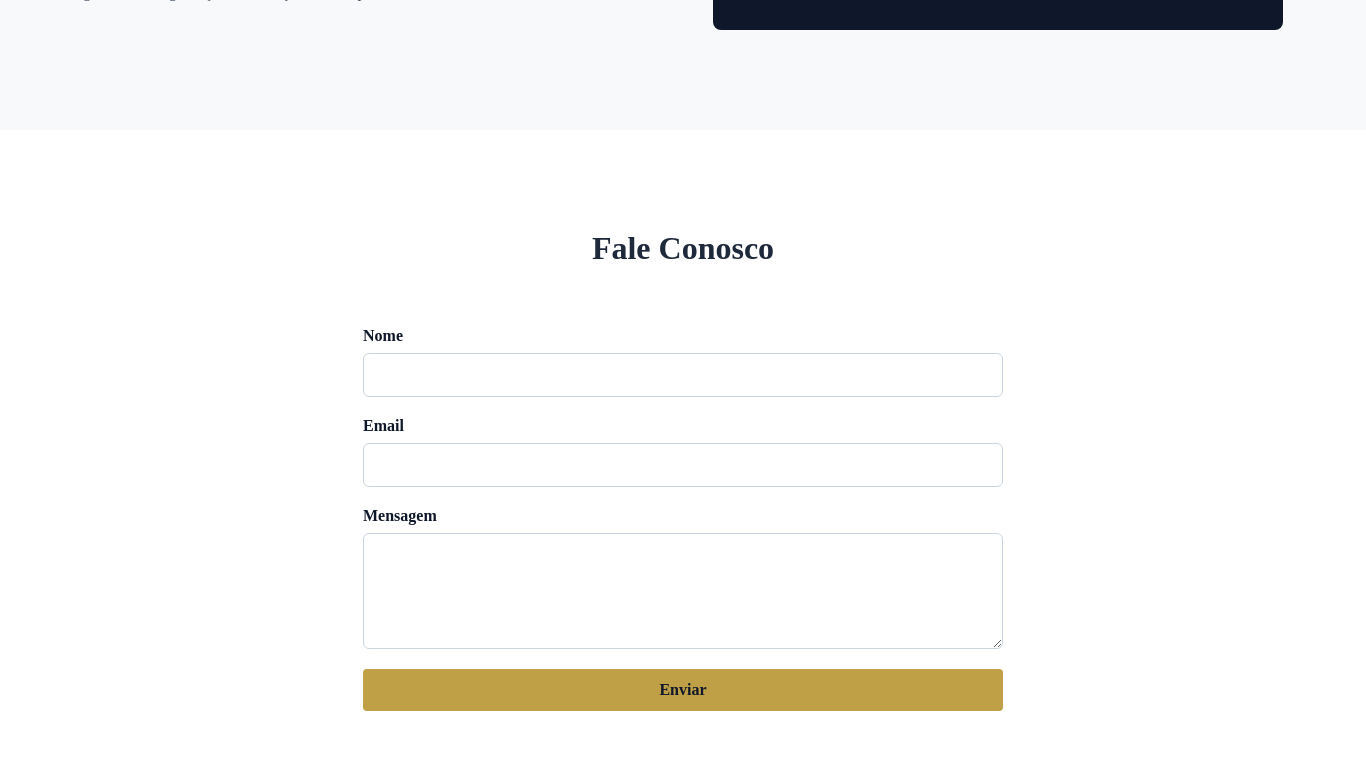
Test: App - integração da landing page › permite preencher, enviar e limpar o formulário de contato
The width and height of the screenshot is (1366, 759).
(page scrolled)
In the field labelled "Nome": point(683, 375) [363,353,1003,397], type "Carlos Lima"
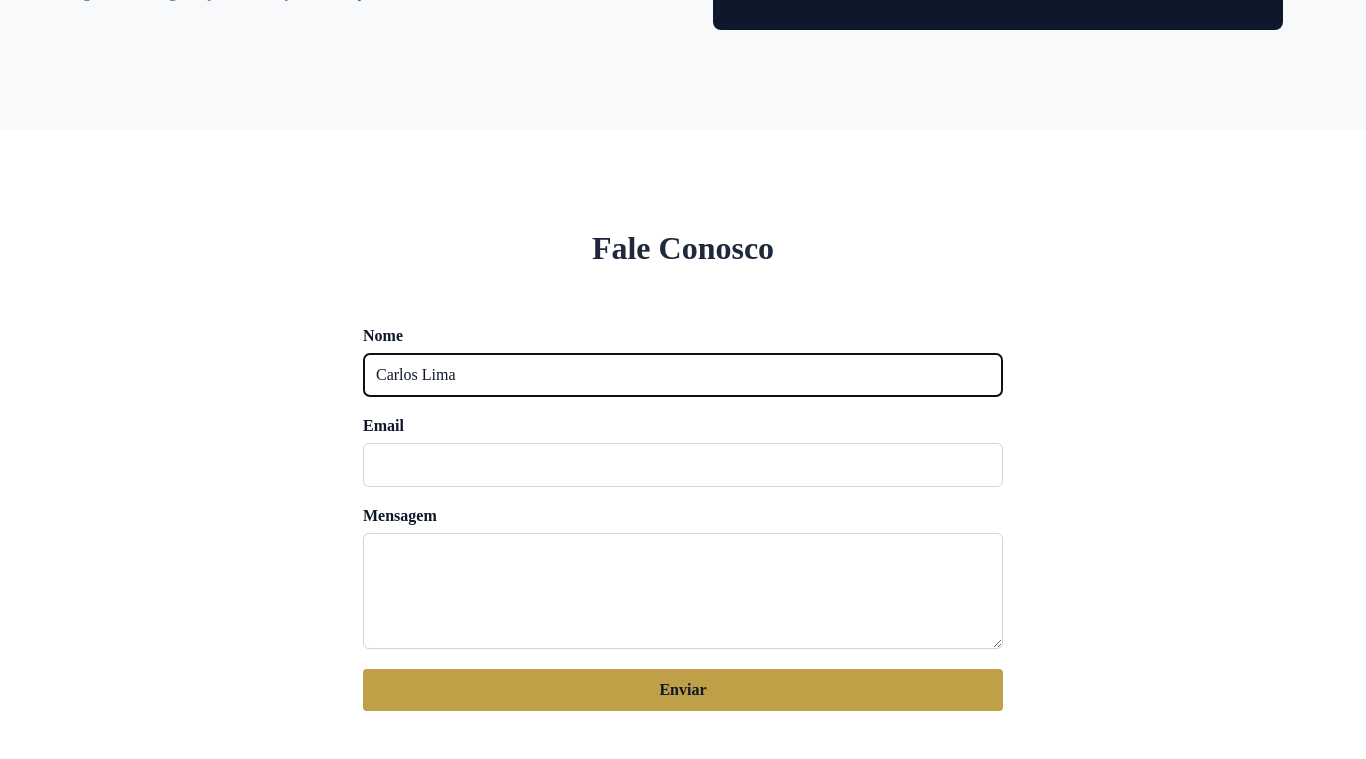
In the field labelled "Email": point(683, 465) [363,443,1003,487], type "carlos@email.com"
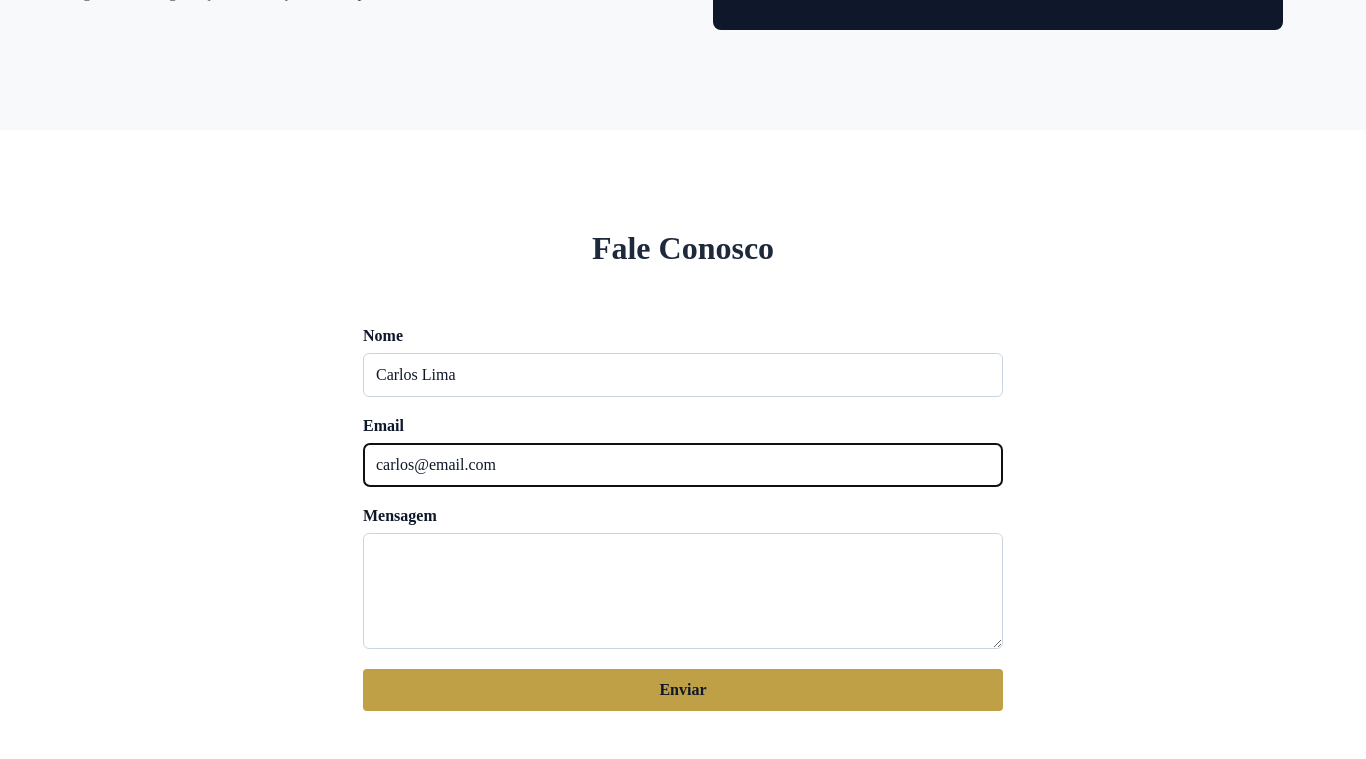
In the text box labelled "Mensagem": point(683, 591) [363,533,1003,649], type "Quero agendar uma consulta sobre contrato."
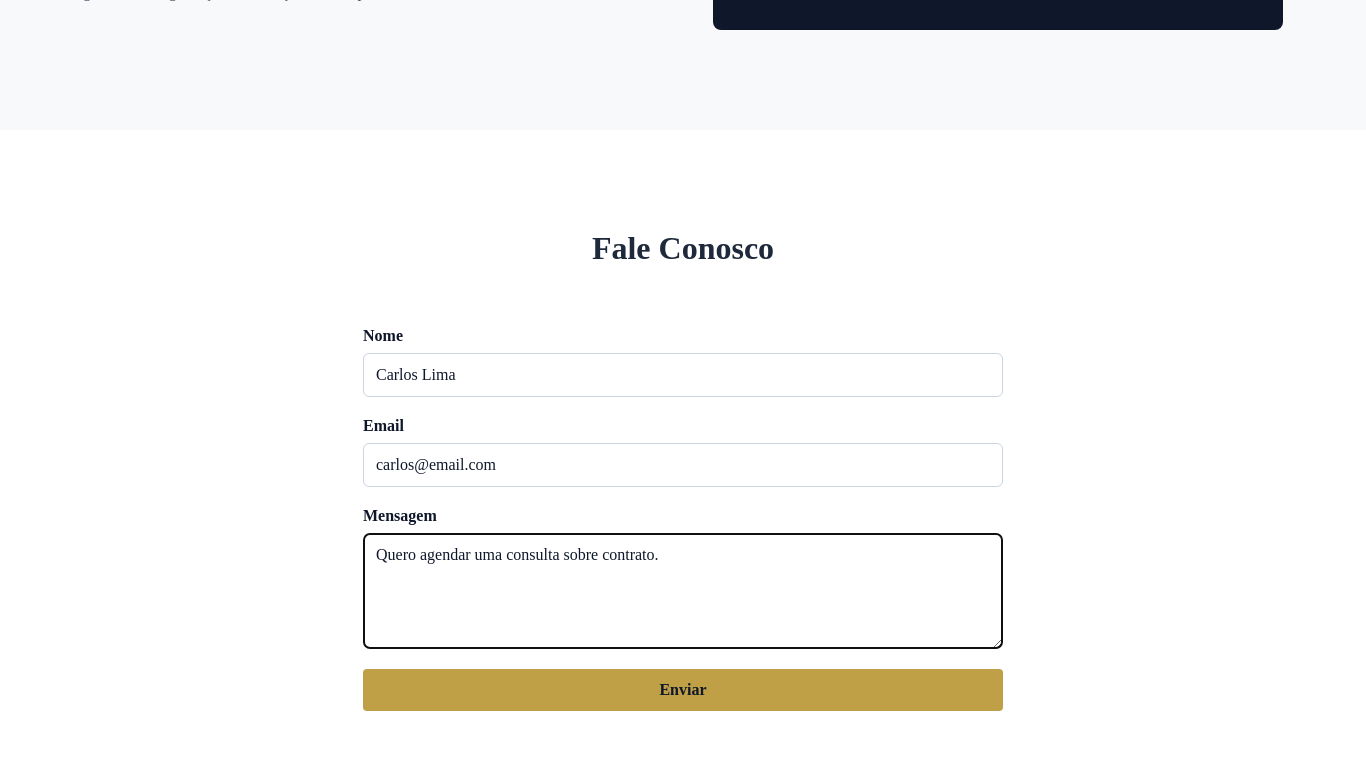
Click the button "Enviar": point(683, 690) [363,669,1003,711]
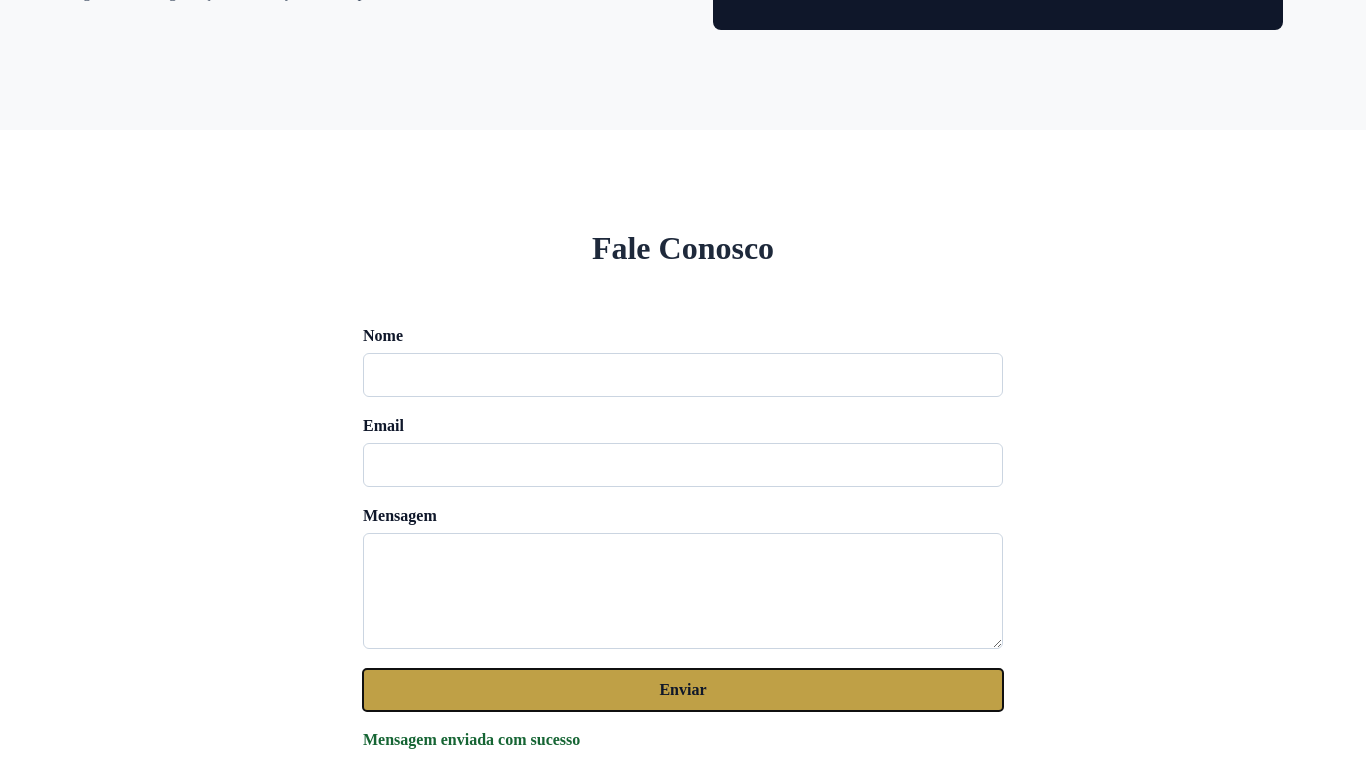
Expected: the text "Mensagem enviada com sucesso" is shown, [363,731,580,748]
Expected: the field labelled "Nome" is empty, [363,353,1003,397]
Expected: the field labelled "Email" is empty, [363,443,1003,487]
